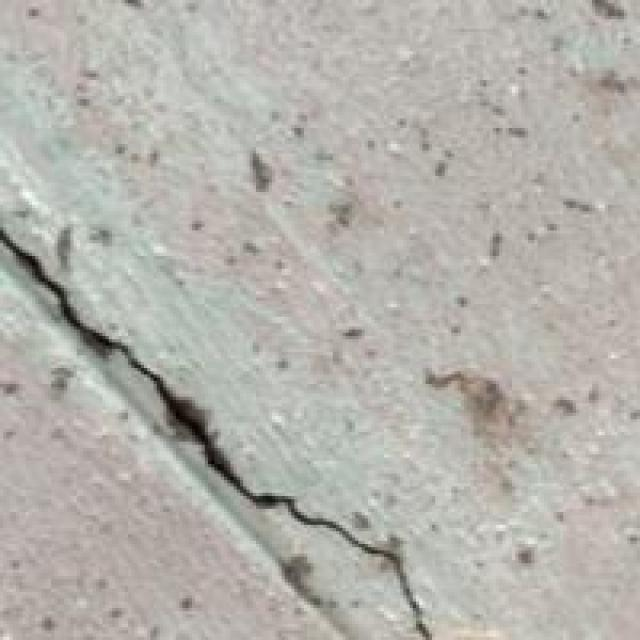crack: (3, 192, 467, 637)
